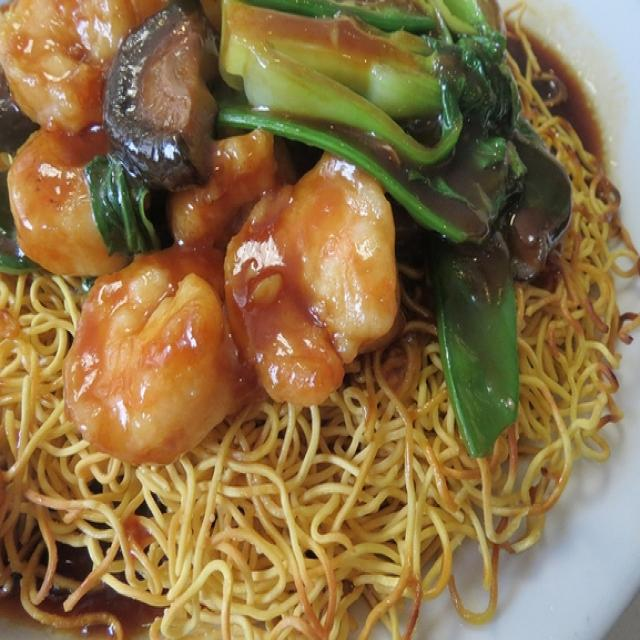面条主食: (8, 13, 631, 621)
